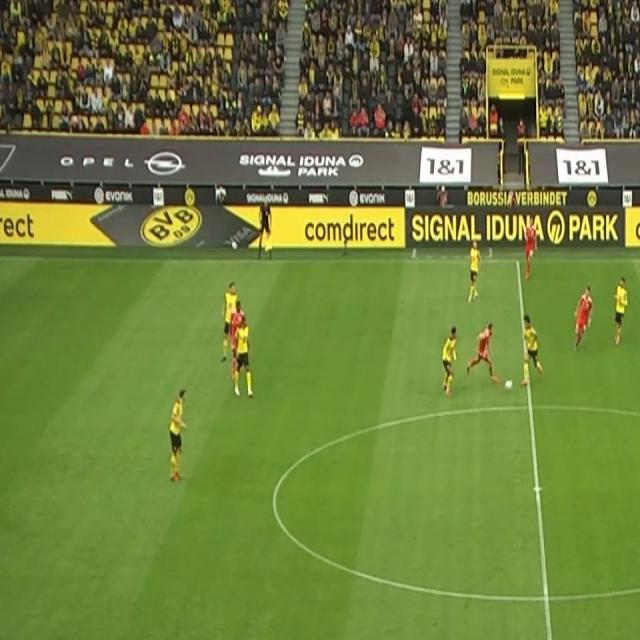ball: (504, 378, 513, 392)
